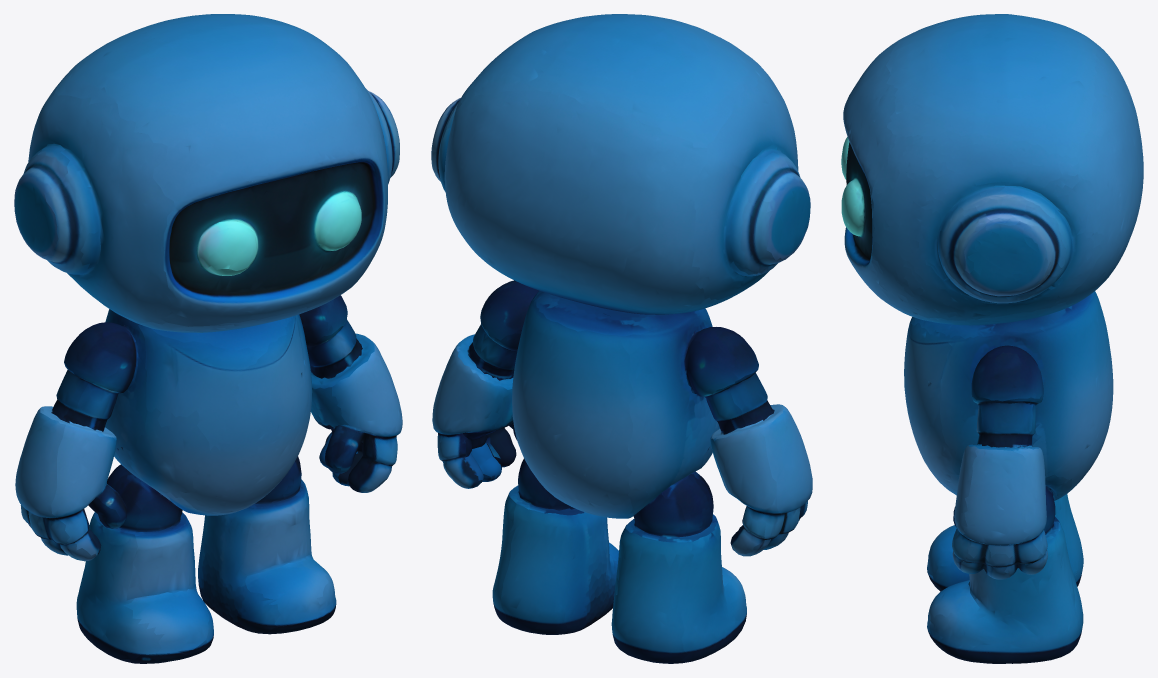
3 renders of one model, left to right at view 1: azimuth 30°, elevation 25°; view 2: azimuth 150°, elevation 25°; view 3: azimuth 270°, elevation 25°, orthographic. The views are drawn at different scales.
Parts seen in each view (by area): view 1: textured_mesh; view 2: textured_mesh; view 3: textured_mesh.
Part boxes in pixels (bbox=[...]): textured_mesh: bbox=[14, 14, 402, 663]; textured_mesh: bbox=[431, 14, 812, 663]; textured_mesh: bbox=[841, 14, 1143, 663].
Bounding box in the file's own units: 1.3 × 1.99 × 0.9451.
Materials: 1 (1 with a texture image).
